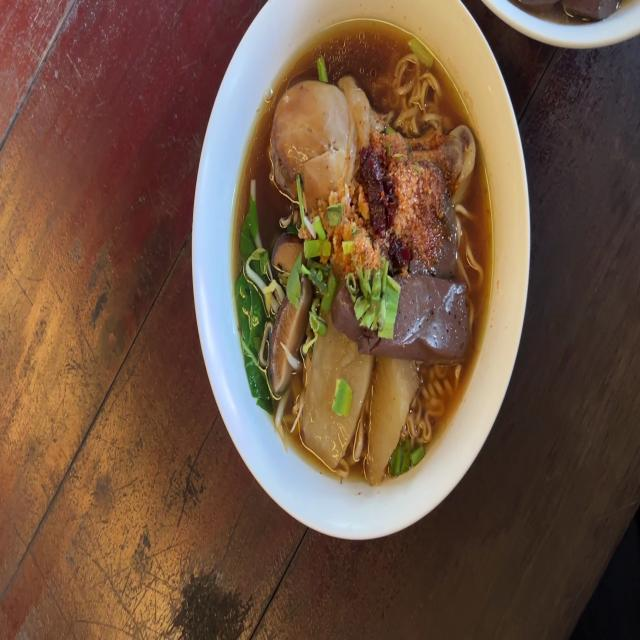boiled_chicken_blood_jelly: (394, 280, 468, 361), (334, 280, 366, 344)
chicken_drumstick: (272, 85, 473, 218)
daikon_radish: (305, 353, 415, 464)
noodle: (248, 32, 490, 480)
